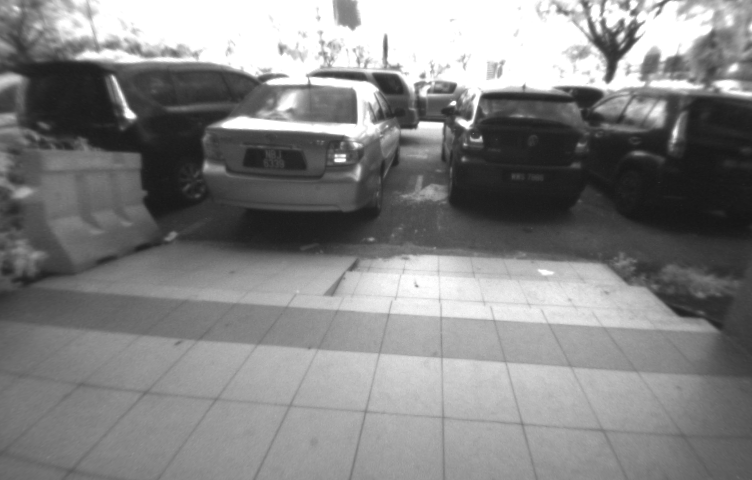down_steps: (326, 242, 736, 351)
mixed_gradient: (308, 242, 383, 315)
